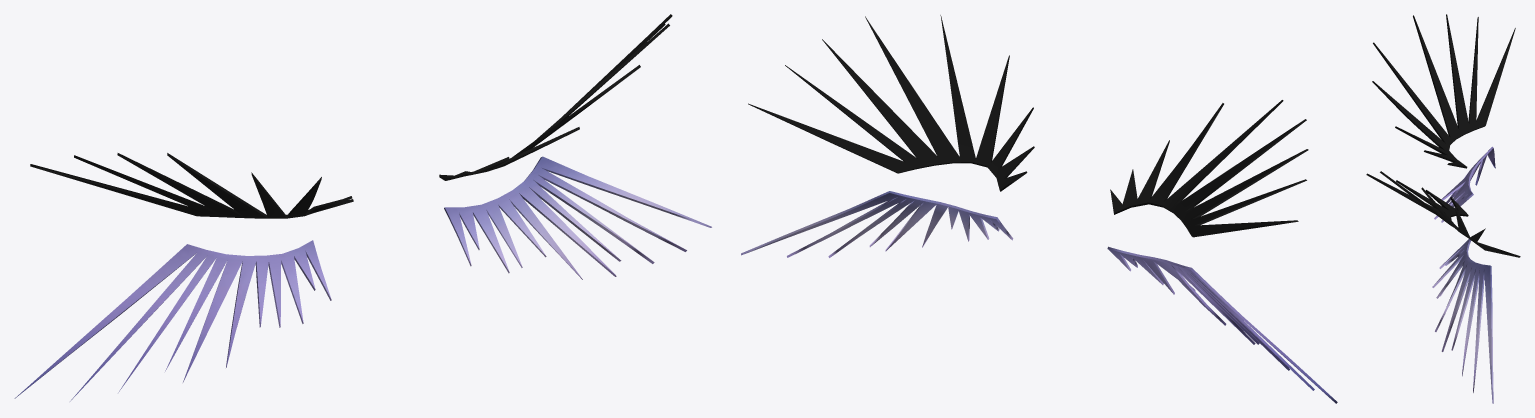
The picture shows the model from 3 angles, left to right: view 1: azimuth 30°, elevation 25°; view 2: azimuth 150°, elevation 25°; view 3: azimuth 270°, elevation 25°; orthographic projection. The views are drawn at different scales.
Parts seen in each view (by area): view 1: Wolf3D_Glasses.057; view 2: Wolf3D_Glasses.057; view 3: Wolf3D_Glasses.057.
Part boxes in pixels (x1,y1,x2,y2): Wolf3D_Glasses.057: (14, 14, 711, 401); Wolf3D_Glasses.057: (741, 15, 1337, 403); Wolf3D_Glasses.057: (1366, 14, 1520, 403).
Bounding box in the file's own units: 0.1875 × 0.0699 × 0.0516.
1 material, 1 textured.
